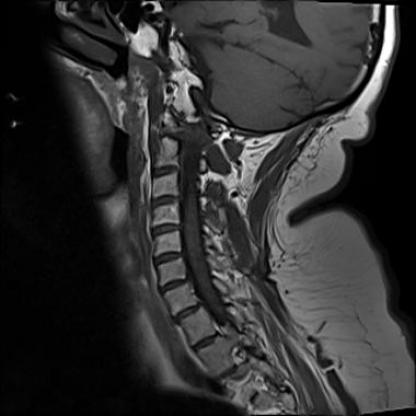Disc Protrusionrotation: (152, 250, 183, 267), (156, 277, 191, 292), (150, 193, 180, 209)
